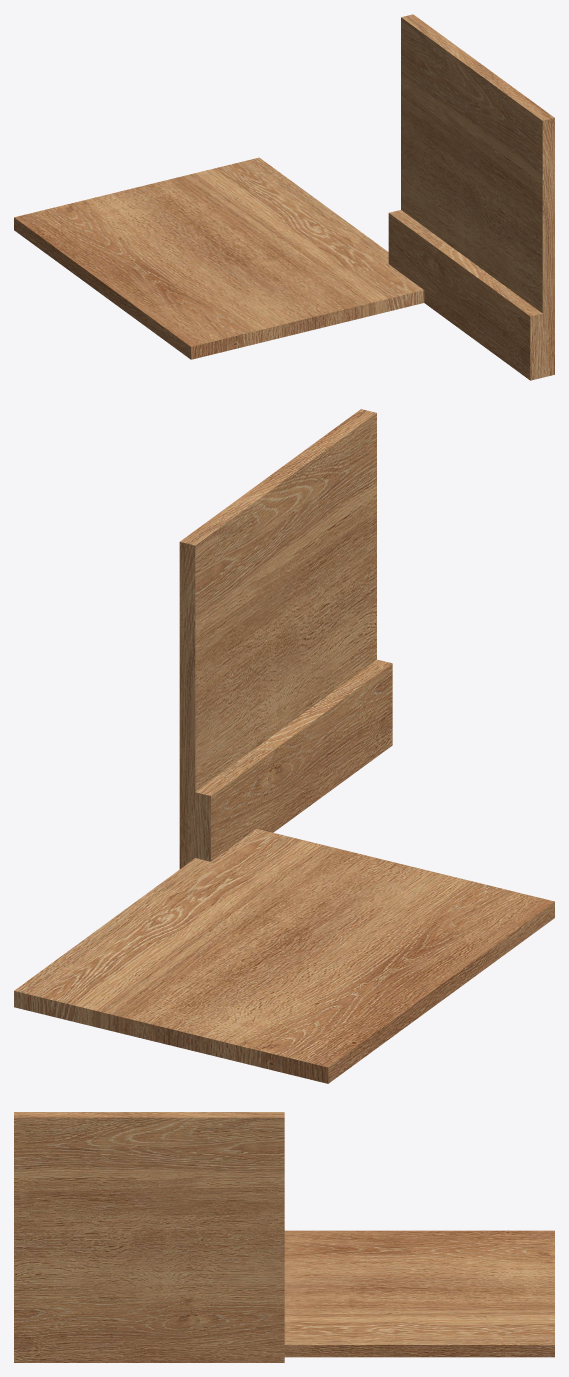
Rendered from 46553_gpt-only.glb.
The picture shows the model from 3 angles, top to bottom: view 1: azimuth 30°, elevation 25°; view 2: azimuth 150°, elevation 25°; view 3: azimuth 270°, elevation 25°; orthographic projection. The views are drawn at different scales.
Parts seen in each view (by area): view 1: ParentEmpty; view 2: ParentEmpty; view 3: ParentEmpty.
Part boxes in pixels (x1=…): ParentEmpty: x1=14, y1=14, x2=554, y2=380; ParentEmpty: x1=14, y1=409, x2=554, y2=1083; ParentEmpty: x1=14, y1=1112, x2=554, y2=1362.
Bounding box in the file's own units: 0.5251 × 0.5 × 1.
Materials: 1 (1 with a texture image).
